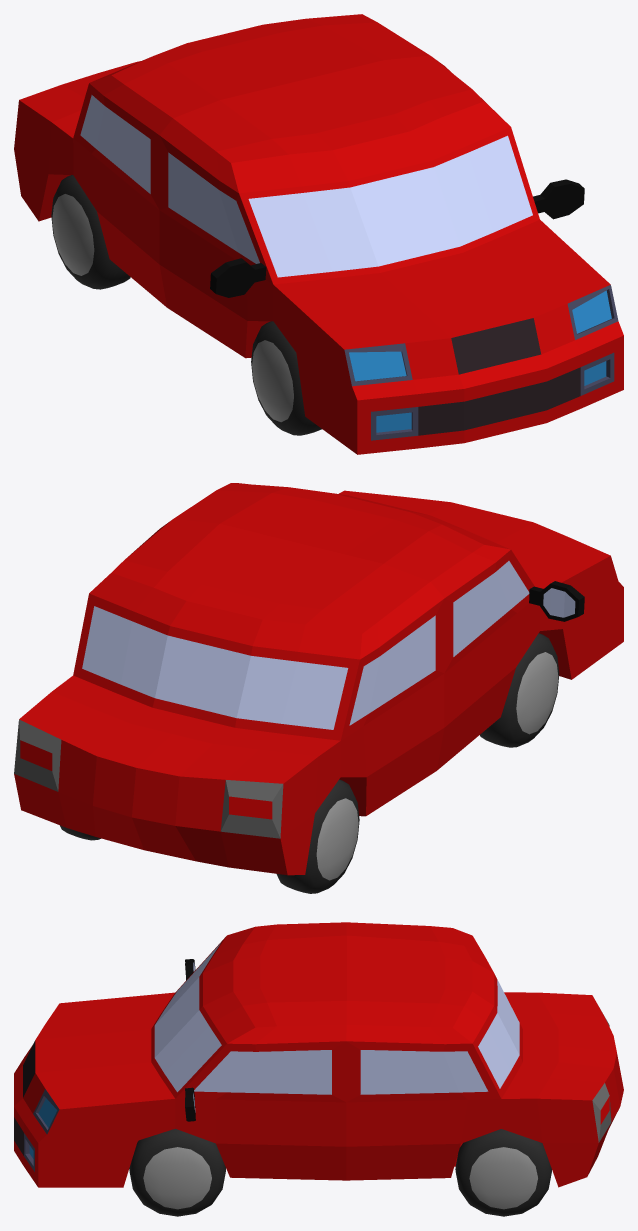
Rendered from Prop_ToyCar_01.fbx.
3 renders of one model, top to bottom at view 1: azimuth 30°, elevation 25°; view 2: azimuth 150°, elevation 25°; view 3: azimuth 270°, elevation 25°, orthographic. The views are drawn at different scales.
Parts seen in each view (by area): view 1: Prop_ToyCar_01; view 2: Prop_ToyCar_01; view 3: Prop_ToyCar_01.
Part boxes in pixels (<box>): Prop_ToyCar_01: <box>14,14,623,454</box>; Prop_ToyCar_01: <box>14,483,623,893</box>; Prop_ToyCar_01: <box>14,922,623,1216</box>.
Size of the model in its own units: 23.63 by 15.13 by 41.55.
